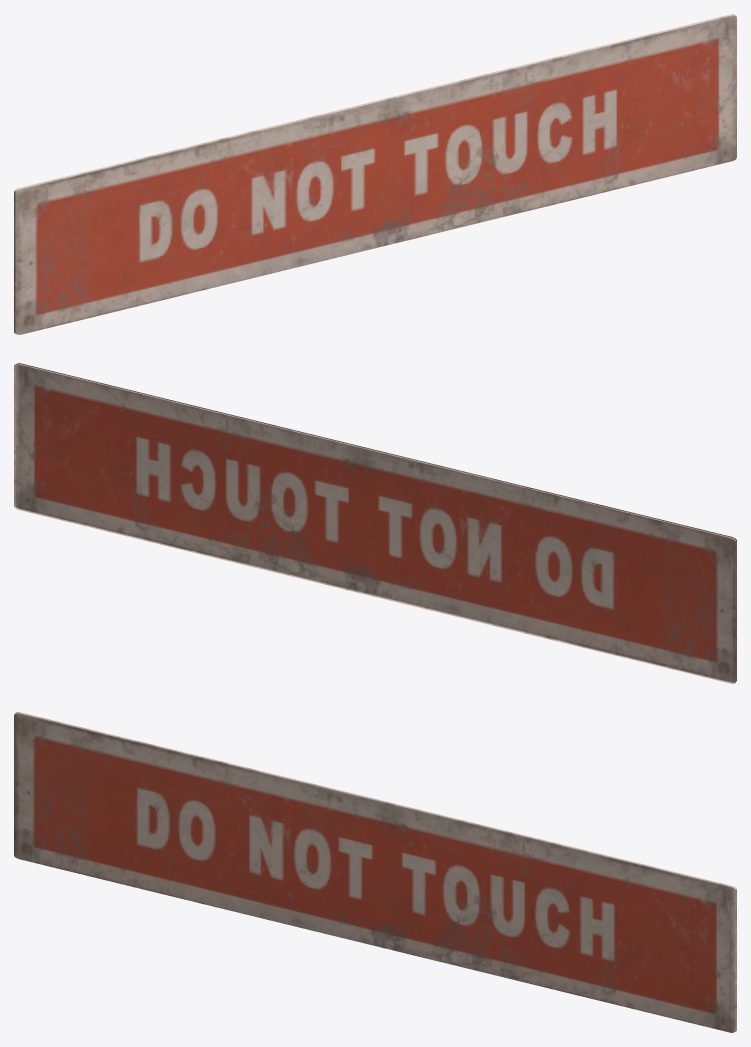
Rendered from SM_Sign_02f.glb.
The picture shows the model from 3 angles, top to bottom: view 1: azimuth 30°, elevation 25°; view 2: azimuth 150°, elevation 25°; view 3: azimuth 330°, elevation 25°; orthographic projection.
Visible parts, largest first — view 1: SM_Sign_02f; view 2: SM_Sign_02f; view 3: SM_Sign_02f.
Part boxes in pixels (x1,y1,x2,y2): SM_Sign_02f: [14, 14, 736, 334]; SM_Sign_02f: [14, 363, 736, 683]; SM_Sign_02f: [14, 712, 736, 1032].
Bounding box in the file's own units: 0.4243 × 0.0818 × 0.00195.
Materials: 1 (1 with a texture image).
